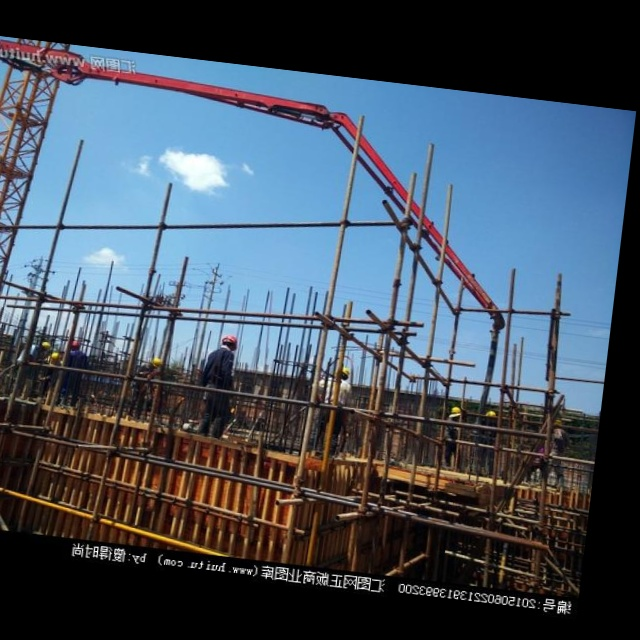Con_Casco: (221, 334, 238, 349), (335, 366, 351, 380)
